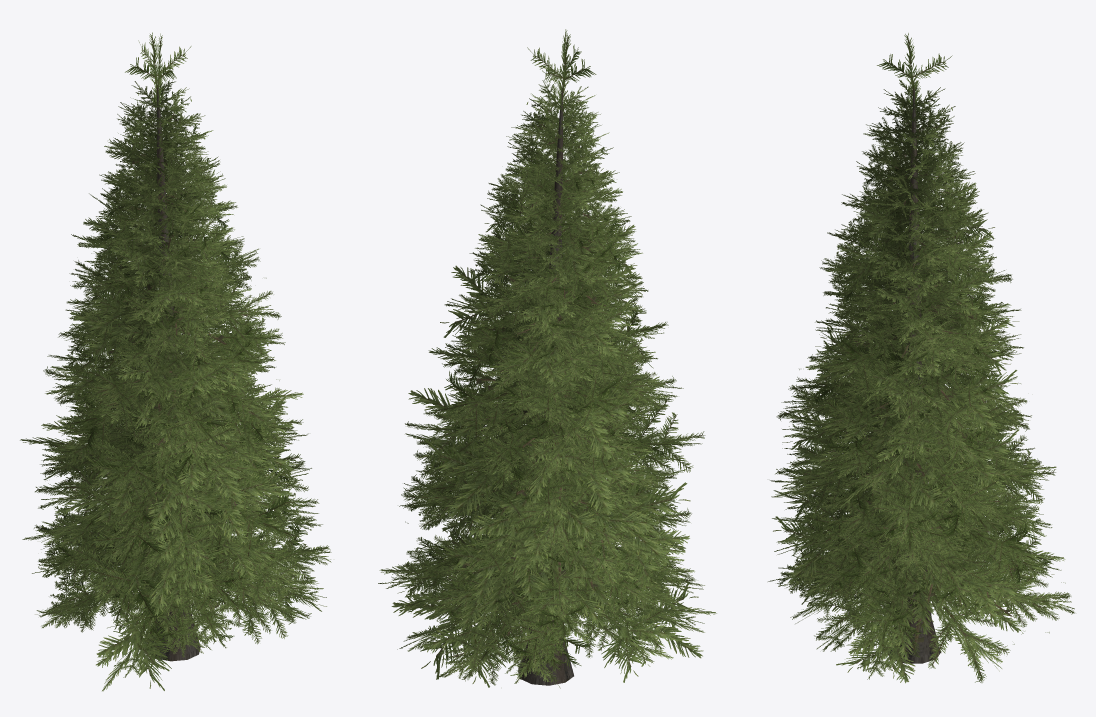
The model's file is Fir_2.gltf.
3 views of the same model, side by side, from view 1: azimuth 30°, elevation 25°; view 2: azimuth 150°, elevation 25°; view 3: azimuth 270°, elevation 25° (orthographic). The views are drawn at different scales.
Visible parts, largest first — view 1: Fir_2; view 2: Fir_2; view 3: Fir_2.
Part boxes in pixels (box(x1,y1,x2,y2)): Fir_2: box(20, 32, 331, 691); Fir_2: box(378, 29, 716, 688); Fir_2: box(768, 33, 1074, 683).
Bounding box in the file's own units: 6.76 × 13.8 × 6.75.
Materials: 2 (2 with a texture image).
